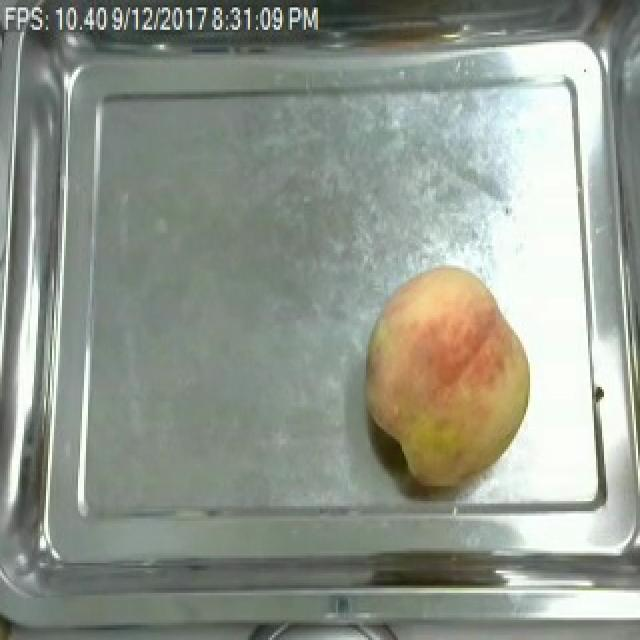Fruit: (354, 263, 540, 491)
